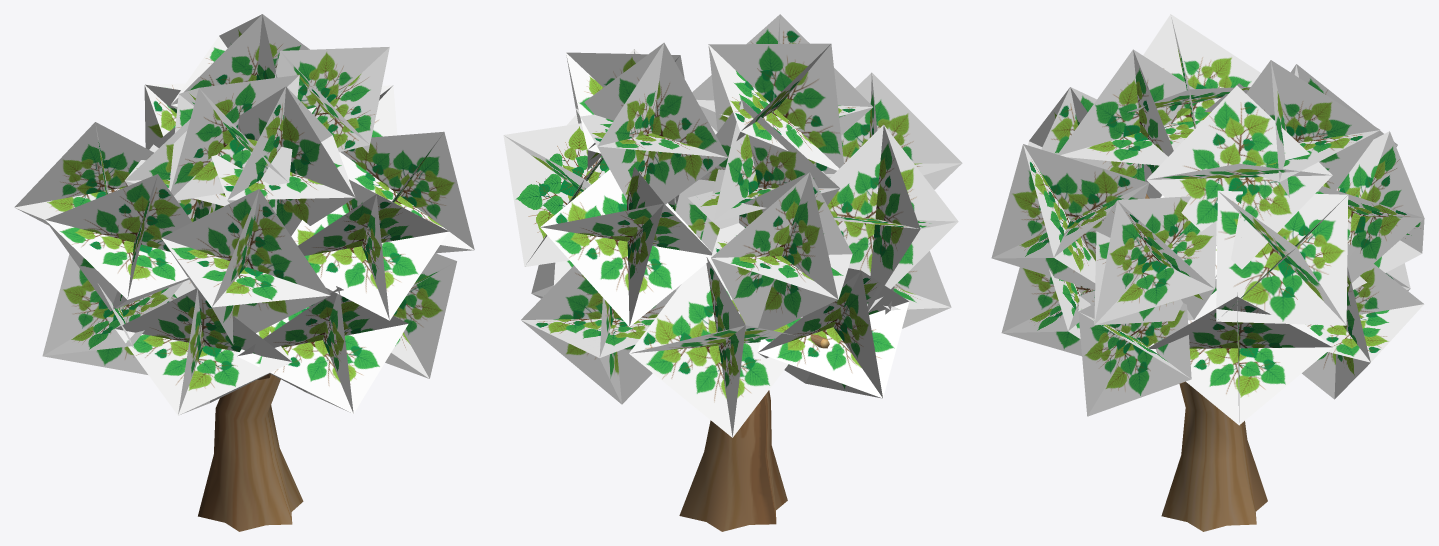
The model's file is Tree_04.FBX.
3 views of the same model, side by side, from view 1: azimuth 30°, elevation 25°; view 2: azimuth 150°, elevation 25°; view 3: azimuth 270°, elevation 25° (orthographic). The views are drawn at different scales.
Parts seen in each view (by area): view 1: Leaf, Trunk; view 2: Leaf, Trunk; view 3: Leaf, Trunk.
Part boxes in pixels (left/top/right/bottom): Leaf: left=14, top=14, right=474, bottom=415; Trunk: left=198, top=373, right=303, bottom=531; Leaf: left=503, top=14, right=962, bottom=437; Trunk: left=679, top=334, right=829, bottom=531; Leaf: left=991, top=14, right=1424, bottom=425; Trunk: left=1135, top=176, right=1267, bottom=531.
Bounding box in the file's own units: 365 × 427 × 358.
Materials: 2 (2 with a texture image).
